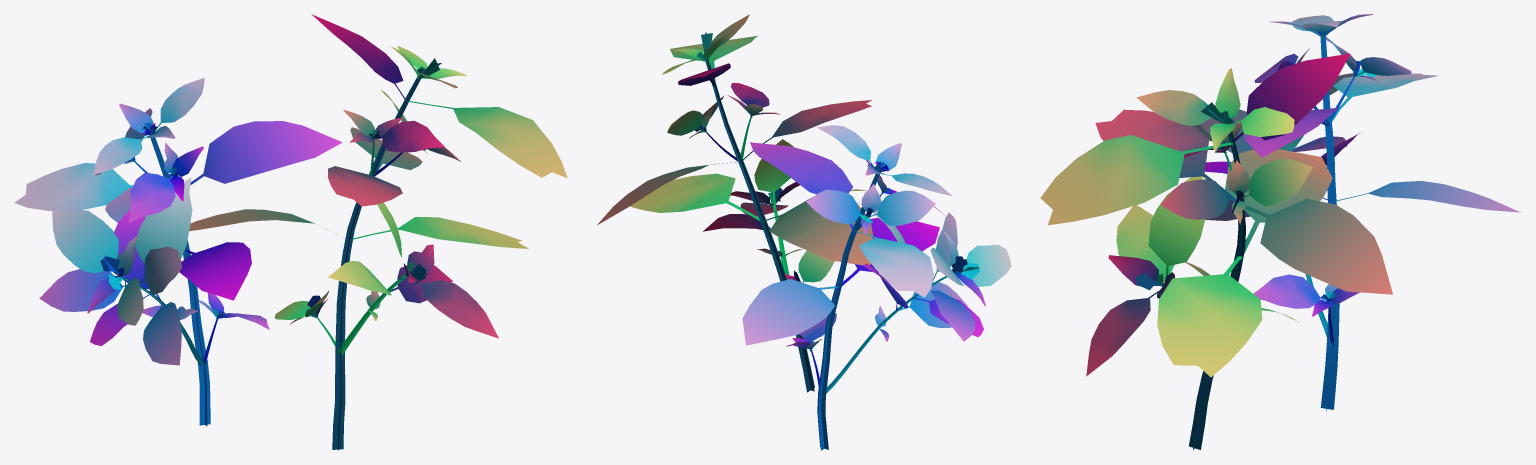
Rendered from Common_Hemp_Nettle_xh1kdfbqx_Mid_xh1kdfbqx_VarC_LOD0.fbx.
The picture shows the model from 3 angles, left to right: view 1: azimuth 30°, elevation 25°; view 2: azimuth 150°, elevation 25°; view 3: azimuth 270°, elevation 25°; orthographic projection. The views are drawn at different scales.
Visible parts, largest first — view 1: _1jp4_VarC_LOD1; view 2: _1jp4_VarC_LOD1; view 3: _1jp4_VarC_LOD1.
Part boxes in pixels (box(x1,y1,x2,y2)): _1jp4_VarC_LOD1: box(14, 14, 567, 450); _1jp4_VarC_LOD1: box(597, 14, 1011, 450); _1jp4_VarC_LOD1: box(1040, 14, 1520, 449).
Size of the model in its own units: 88.55 by 75.2 by 78.19.
